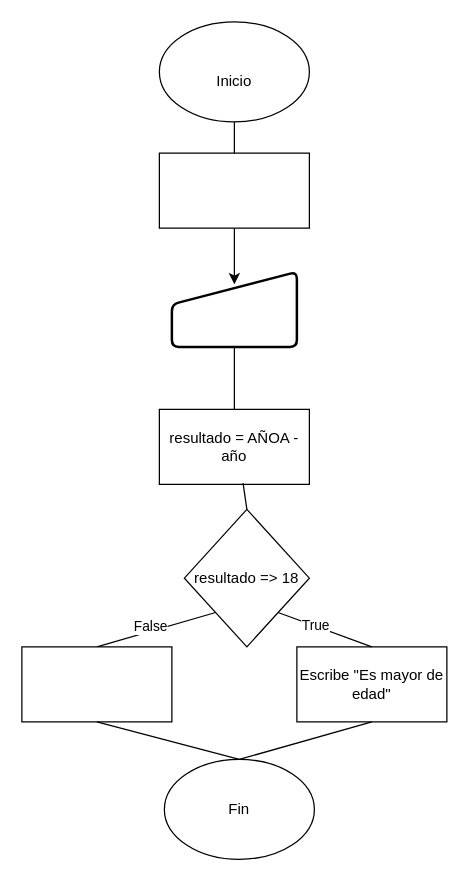
This 469x881 diagram has some shape labels left out. The shapes that lost their labels are listed below. From the top down, each one's box as (x1, y1, x2, y2) in pixels, then its label:
(158, 152, 309, 228): Entero añoa Entero añon Entero resultado
(170, 270, 298, 348): Leer año
(21, 646, 172, 722): Escribe "Es menor de edad"
